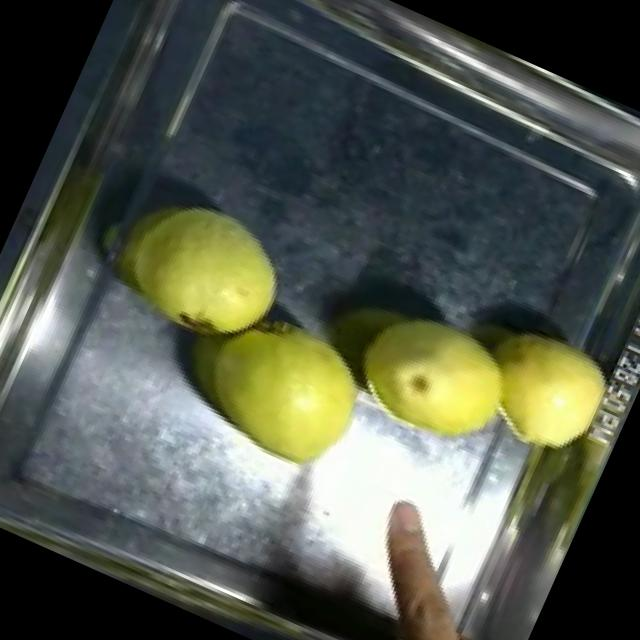Fruit: (152, 279, 394, 494), (92, 170, 312, 369), (328, 287, 535, 473), (446, 301, 640, 485)
